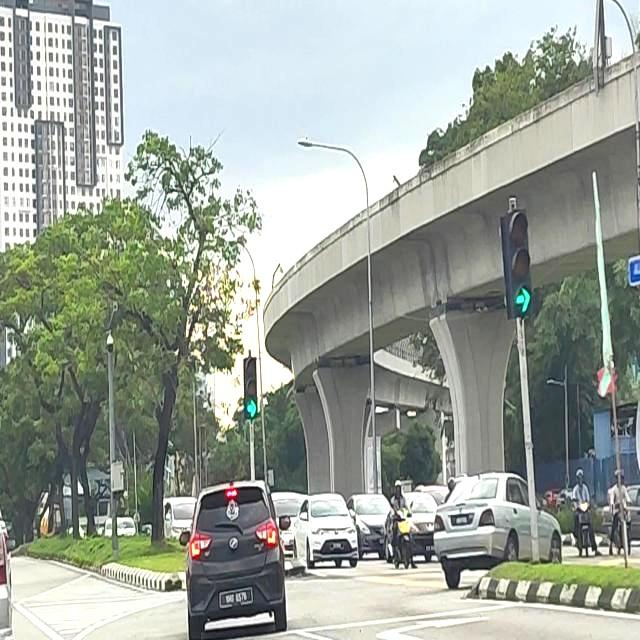Green: (507, 208, 533, 319), (243, 357, 257, 420)
